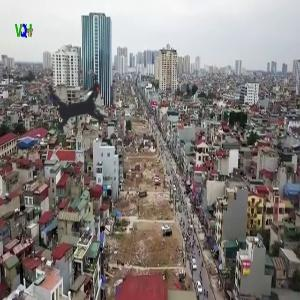drone: (11, 44, 140, 173)
